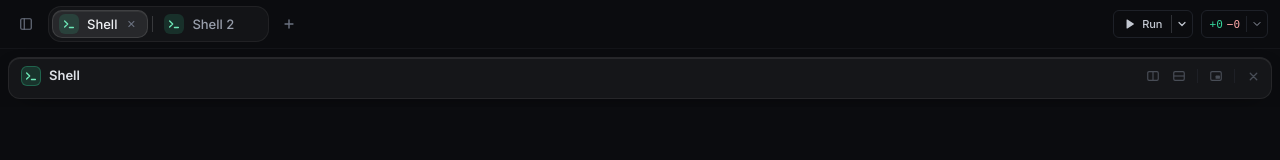
it: TerminalView › tab groups: a split layout is one tab in the strip › closing the group asks per busy member, then closes them all
Press d
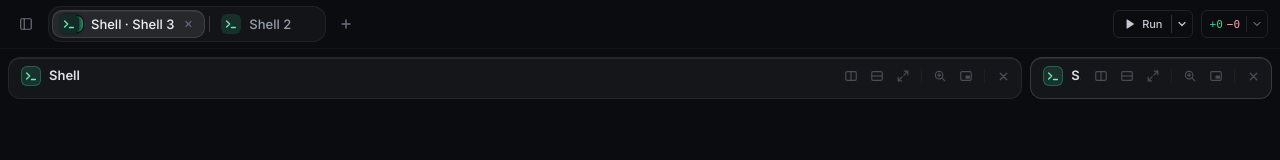
Click the button named "Close group Shell · Shell 3" at (188, 24), box [178,14,198,34]
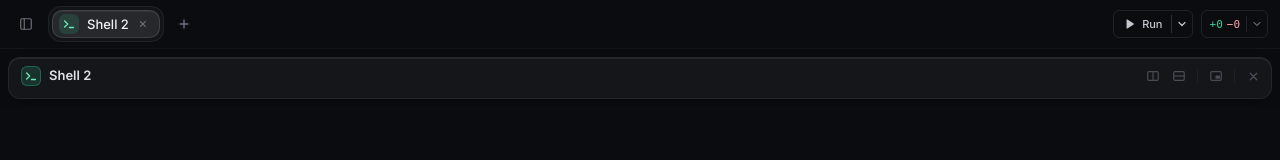
Result: the element with test id "tab-group" is gone
